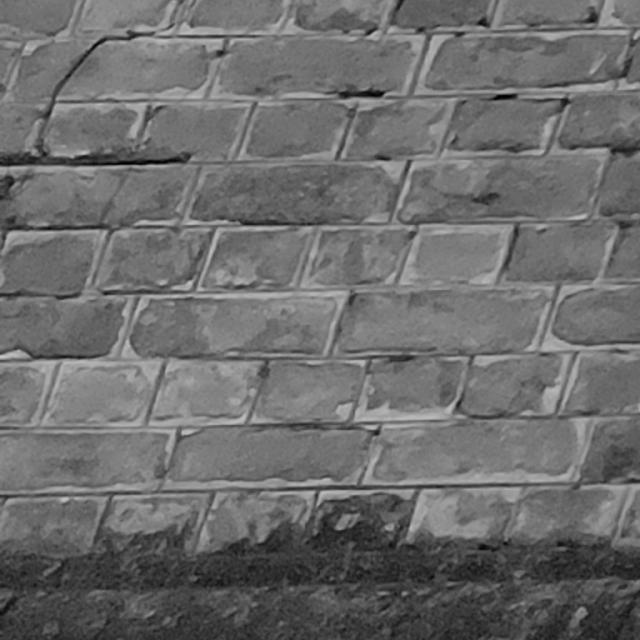crack: (1, 24, 191, 168)
